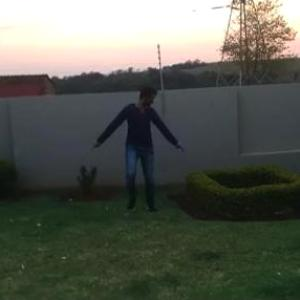land: (90, 90, 186, 222)
